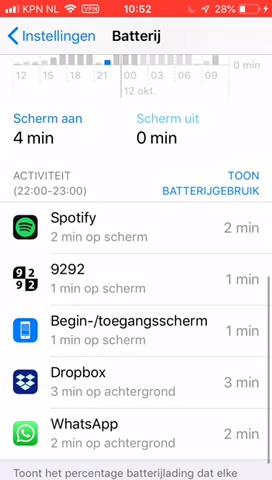activity: (9, 169, 93, 199)
app: (10, 210, 266, 249), (9, 260, 265, 299), (7, 310, 263, 349), (7, 362, 263, 401), (7, 414, 263, 453)
